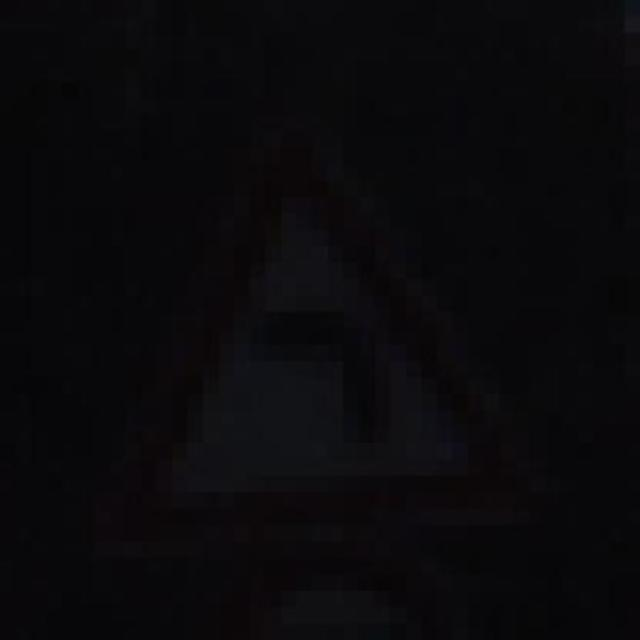Dangerous Left Curve Ahead: (78, 147, 531, 558)
